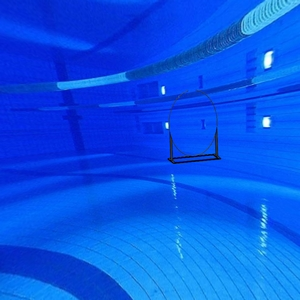circle: (167, 89, 223, 165)
